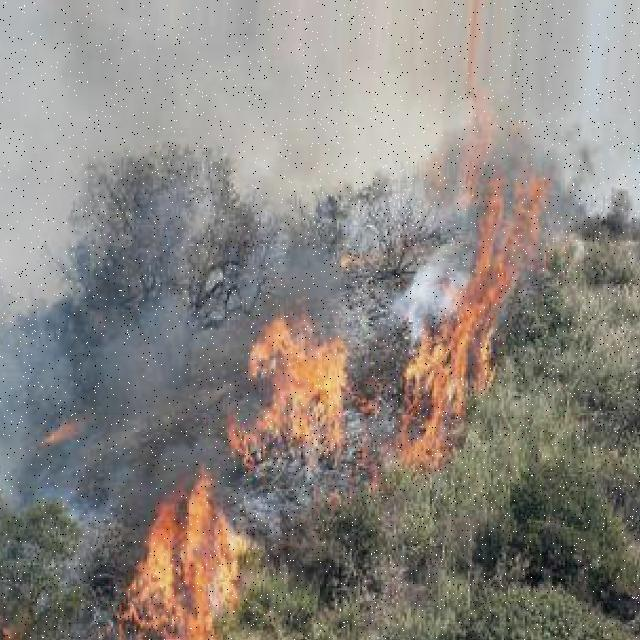fire: (411, 202, 491, 455), (124, 487, 252, 640), (238, 318, 350, 461)
smoke: (12, 259, 240, 489)
